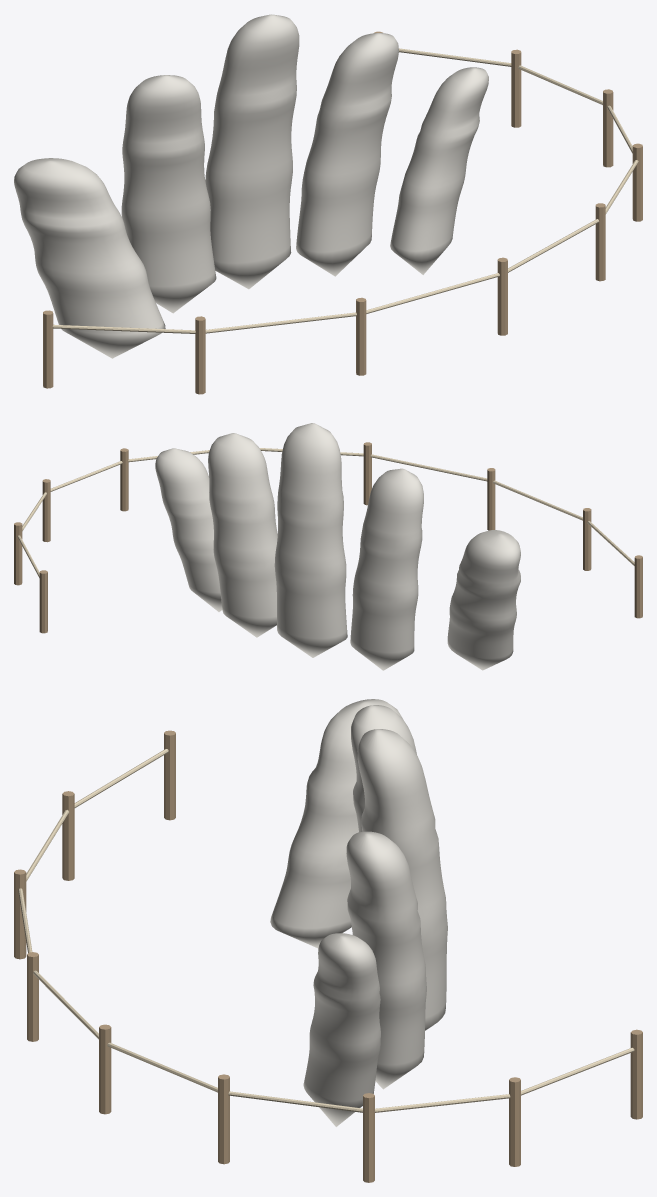
The model's file is LaMano_LosDedos_v2.fbx.
3 views of the same model, one above another, from view 1: azimuth 30°, elevation 25°; view 2: azimuth 150°, elevation 25°; view 3: azimuth 270°, elevation 25° (orthographic). The views are drawn at different scales.
Visible parts, largest first — view 1: LaMano_Middle, LaMano_Thumb, LaMano_Index, LaMano_Ring, LaMano_Pinky, Cylinder.001, Cylinder, Cylinder.002, Cylinder.003, Cylinder.007, Cylinder.004, Cylinder.005 (+4 smaller); view 2: LaMano_Middle, LaMano_Index, LaMano_Ring, LaMano_Thumb, LaMano_Pinky, Cylinder, Cylinder.008, Cylinder.005, Cylinder.002, Cylinder.001, Cylinder.006, Cylinder.007 (+3 smaller); view 3: LaMano_Ring, LaMano_Thumb, LaMano_Middle, LaMano_Pinky, LaMano_Index, Cylinder.004, Cylinder.008, Cylinder.001, Cylinder.006, Cylinder.005, Cylinder.007, Cylinder (+4 smaller).
Boxes of the visible parts, x1,y1,x2,y2 form: LaMano_Middle: [205, 14, 299, 289]; LaMano_Thumb: [14, 158, 165, 358]; LaMano_Index: [121, 75, 216, 313]; LaMano_Ring: [296, 33, 398, 276]; LaMano_Pinky: [390, 67, 488, 274]; Cylinder.001: [195, 316, 205, 394]; Cylinder: [43, 310, 53, 388]; Cylinder.002: [356, 297, 366, 375]; Cylinder.003: [497, 257, 507, 335]; Cylinder.007: [511, 49, 521, 127]; Cylinder.004: [595, 203, 605, 281]; Cylinder.005: [632, 143, 642, 221]; LaMano_Middle: [274, 423, 347, 657]; LaMano_Index: [350, 468, 423, 670]; LaMano_Ring: [208, 433, 277, 637]; LaMano_Thumb: [447, 530, 520, 670]; LaMano_Pinky: [155, 448, 222, 611]; Cylinder: [634, 555, 642, 618]; Cylinder.008: [39, 570, 47, 633]; Cylinder.005: [120, 448, 128, 511]; Cylinder.002: [487, 468, 495, 530]; Cylinder.001: [583, 508, 591, 570]; Cylinder.006: [42, 479, 50, 542]; Cylinder.007: [14, 522, 22, 585]; LaMano_Ring: [346, 831, 426, 1089]; LaMano_Thumb: [270, 699, 402, 948]; LaMano_Middle: [357, 729, 447, 1030]; LaMano_Pinky: [303, 933, 380, 1126]; LaMano_Index: [351, 705, 416, 832]; Cylinder.004: [99, 1024, 111, 1114]; Cylinder.008: [630, 1029, 642, 1119]; Cylinder.001: [62, 791, 74, 880]; Cylinder.006: [363, 1093, 374, 1182]; Cylinder.005: [218, 1074, 229, 1164]; Cylinder.007: [509, 1077, 520, 1166]; Cylinder: [164, 730, 175, 820].
Bounding box in the file's own units: 10.7 × 4.36 × 7.74.
